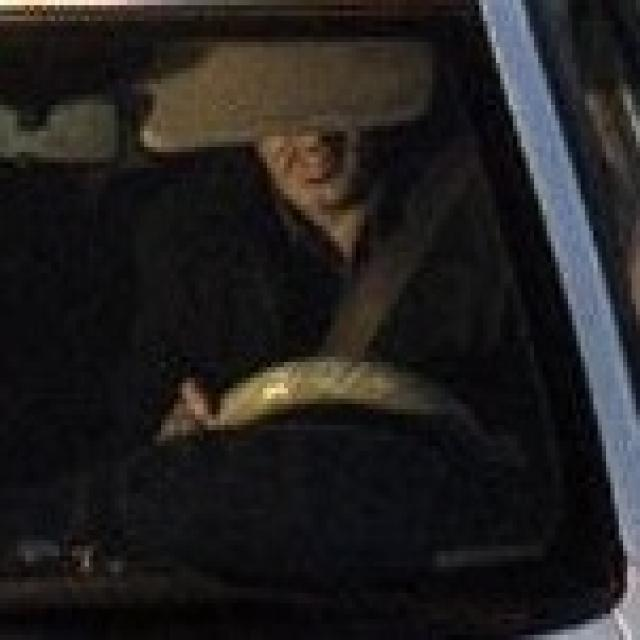seatbelt: (339, 110, 471, 362)
